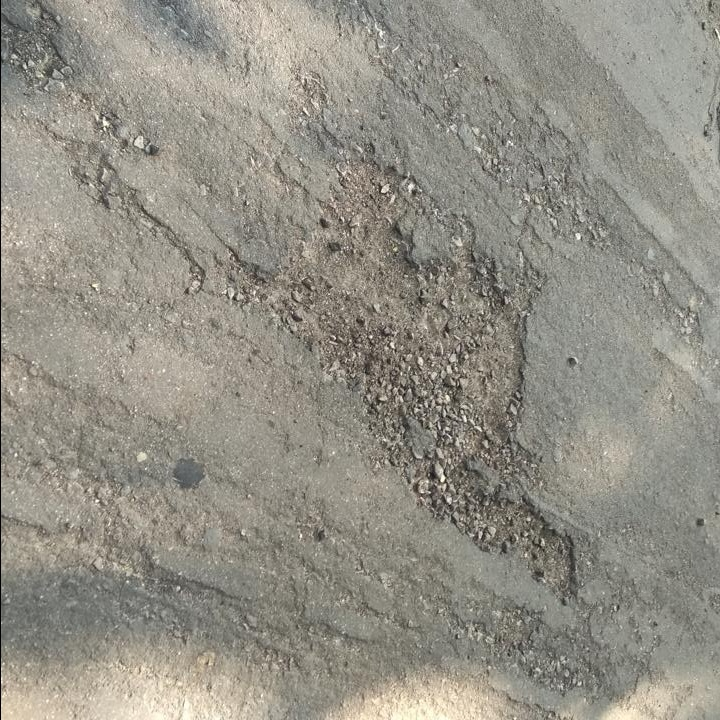pothole: (246, 143, 554, 511), (415, 491, 580, 605)
